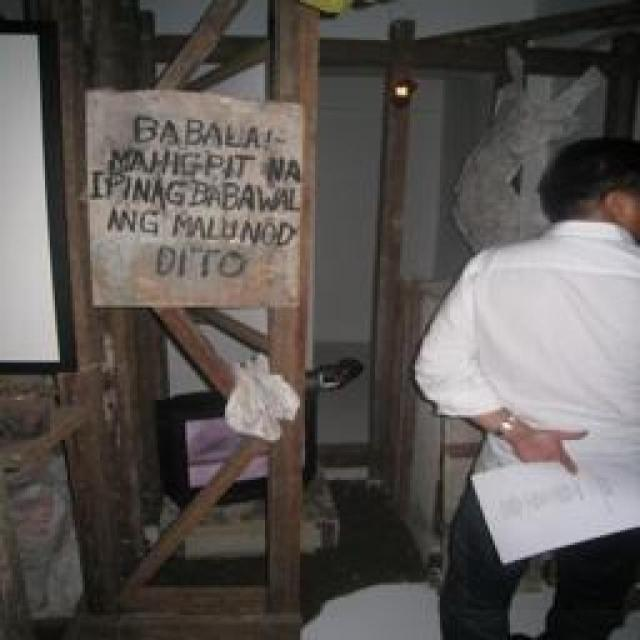Helmet: (467, 220, 640, 609), (531, 89, 640, 268)
